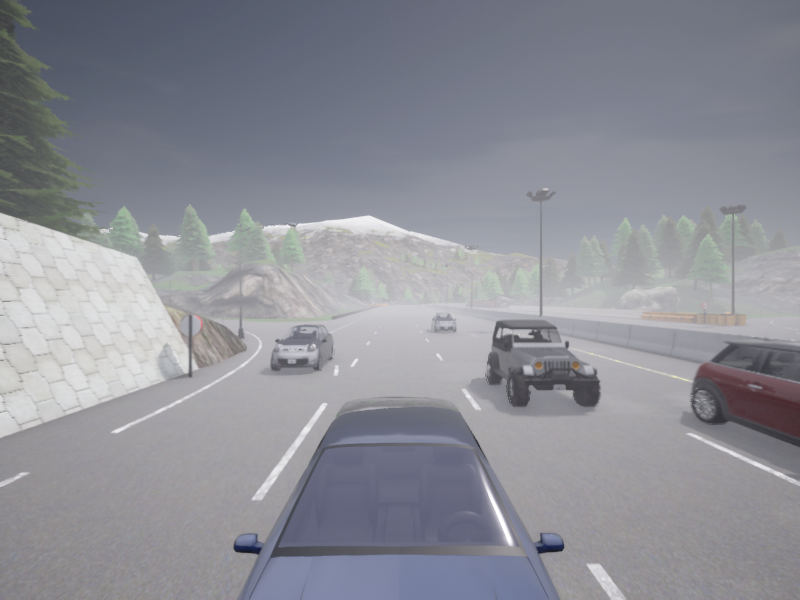vehicle: (233, 397, 564, 599), (691, 334, 799, 446), (486, 320, 600, 405), (270, 324, 333, 370), (431, 313, 456, 332)
